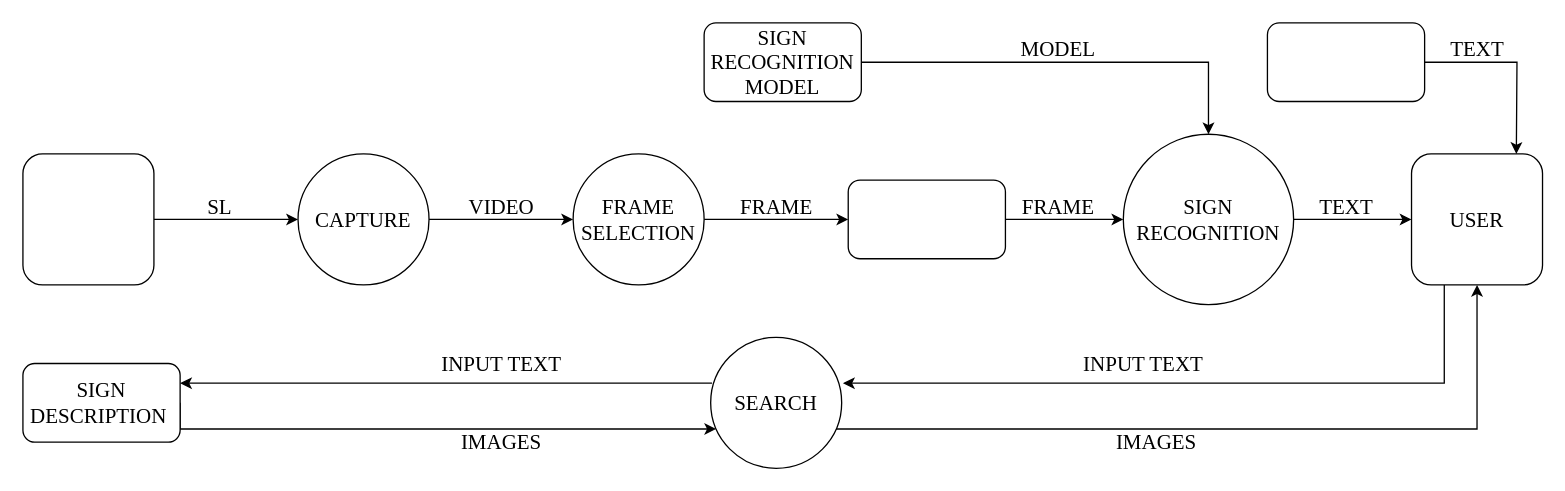
Some shapes in this 1565 by 491 pixel diagram are drawn without their labels. The shapes that lost their labels are listed below. From the top down, each one's box as (x1, y1, x2, y2) in pixels, then its label:
(1266, 22, 1425, 102): RESOURCES
(22, 153, 154, 285): SLU
(847, 179, 1005, 259): FRAME STORAGE
